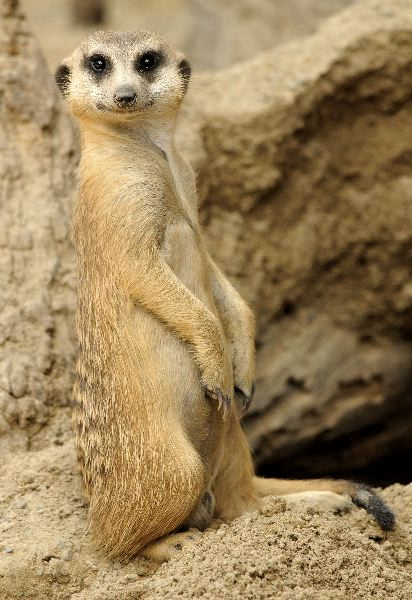meerkat: (49, 21, 398, 573)
